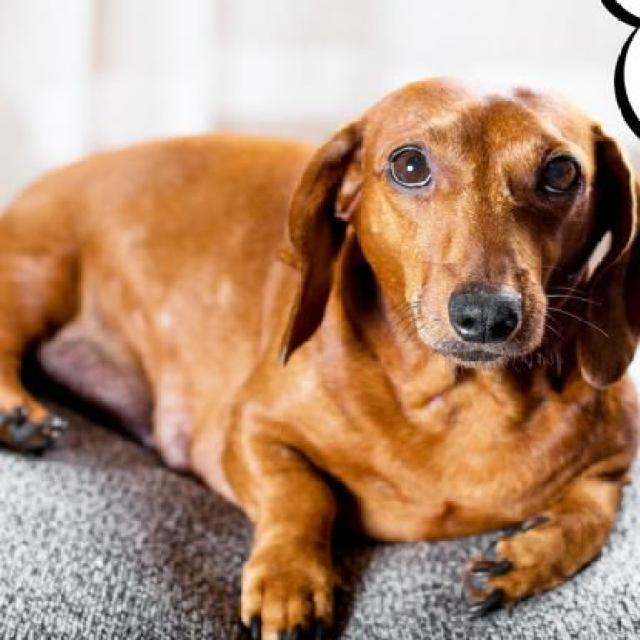Dog: (7, 74, 638, 638)
